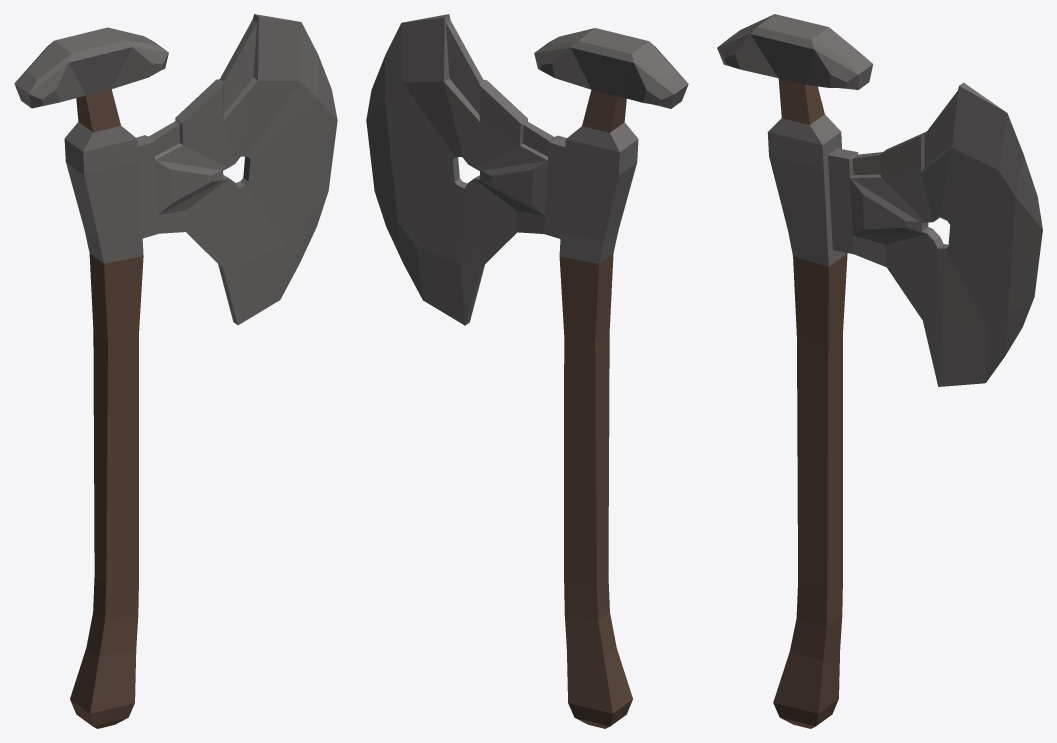
File: balta.fbx
3 views of the same model, side by side, from view 1: azimuth 30°, elevation 25°; view 2: azimuth 150°, elevation 25°; view 3: azimuth 330°, elevation 25° (orthographic).
Parts seen in each view (by area): view 1: balta; view 2: balta; view 3: balta.
Part boxes in pixels (x1,y1,x2,y2): balta: [14, 14, 337, 728]; balta: [366, 14, 688, 728]; balta: [717, 14, 1042, 728].
Bounding box in the file's own units: 103 × 214 × 13.88.
